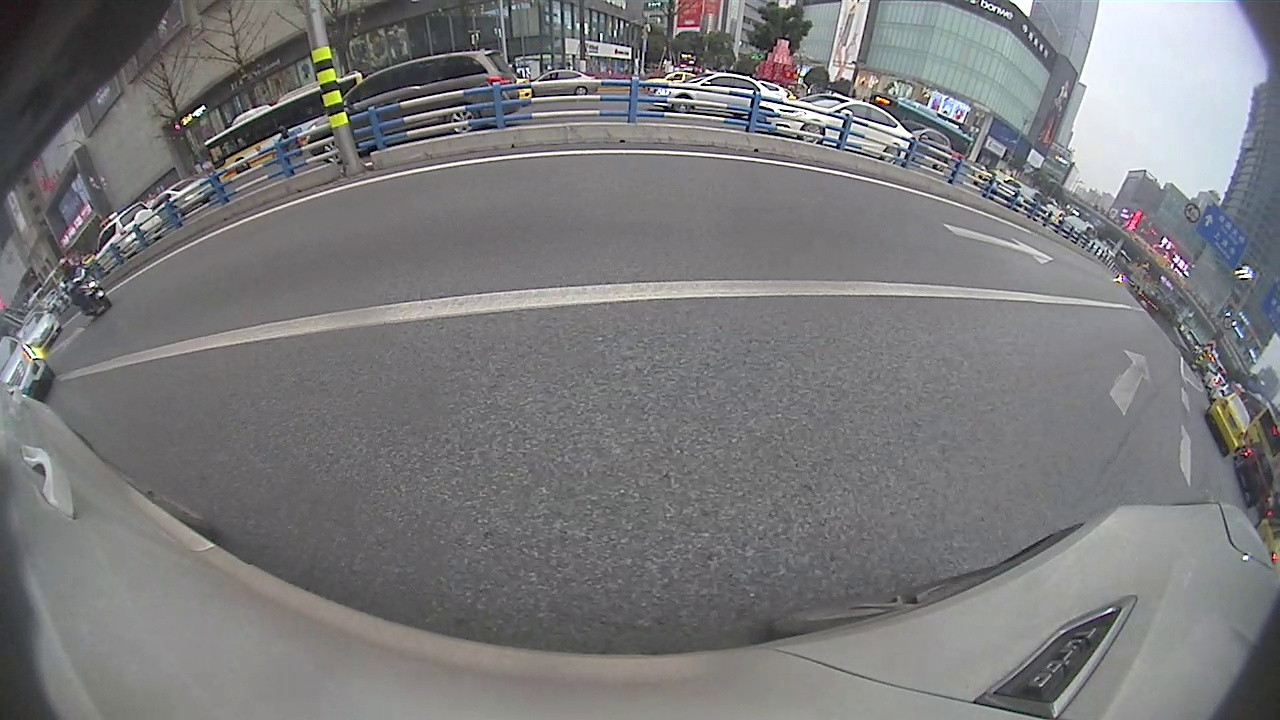bus: (203, 68, 365, 186)
car: (297, 45, 521, 164), (755, 90, 918, 168), (647, 71, 788, 124), (1202, 390, 1252, 460)
front: (799, 120, 826, 147), (323, 136, 341, 164)
rear: (450, 106, 483, 134), (879, 143, 902, 167)
rider: (54, 254, 116, 320)
